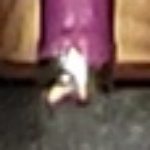bottle: (25, 28, 134, 126)
